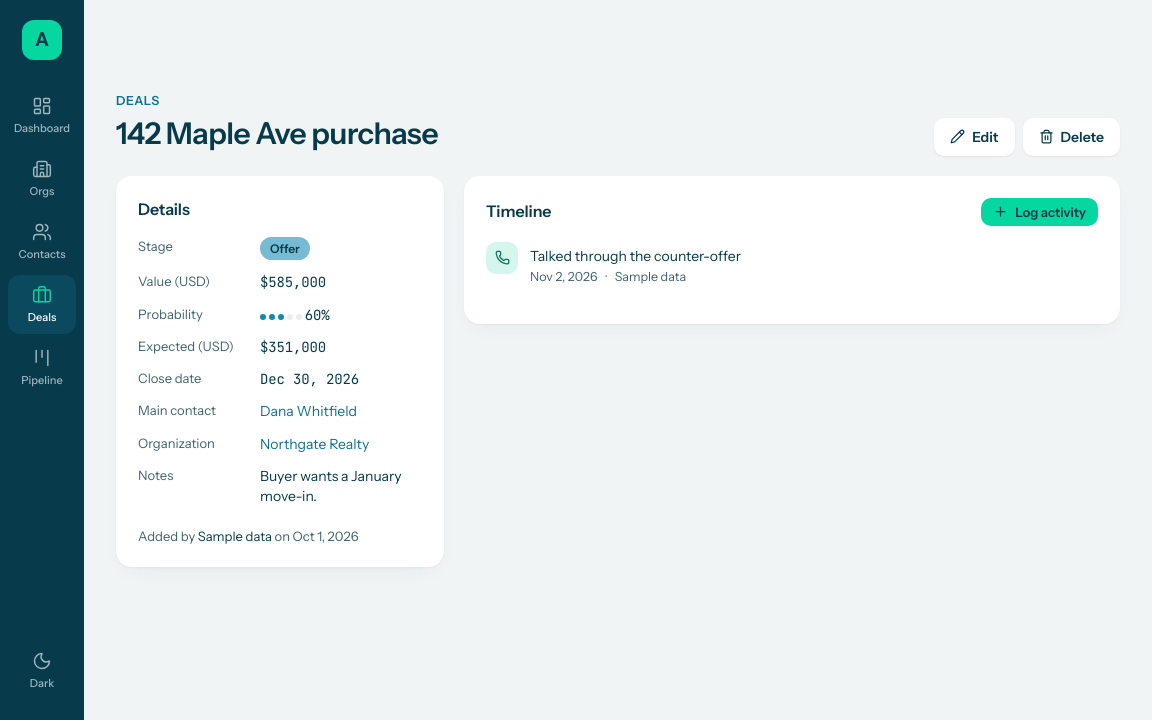
Test: a deal's page › edits the deal and shows the saved details
Click the button "Edit" at [974, 137], box [934,118,1014,156]
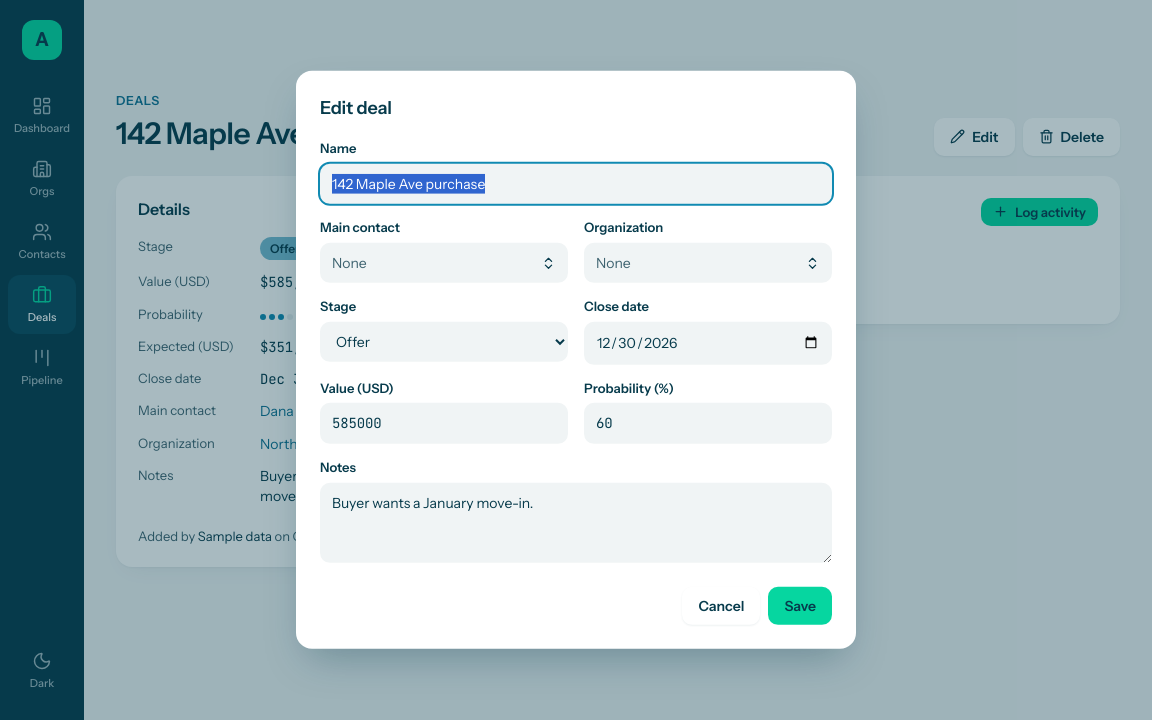
Type "142 Maple Ave purchase (backup offer)" into the field labelled "Name" at [576, 184], box [320,164,832,204]
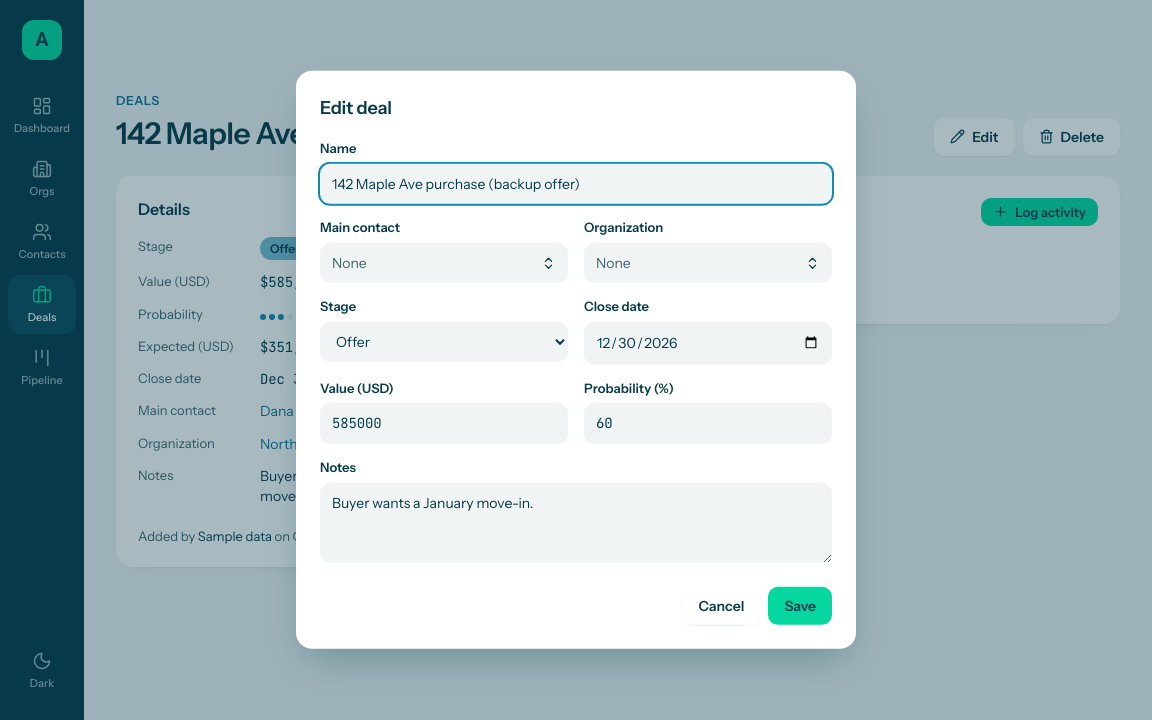
Click the button "Save" at [800, 606], box [768,587,832,625]
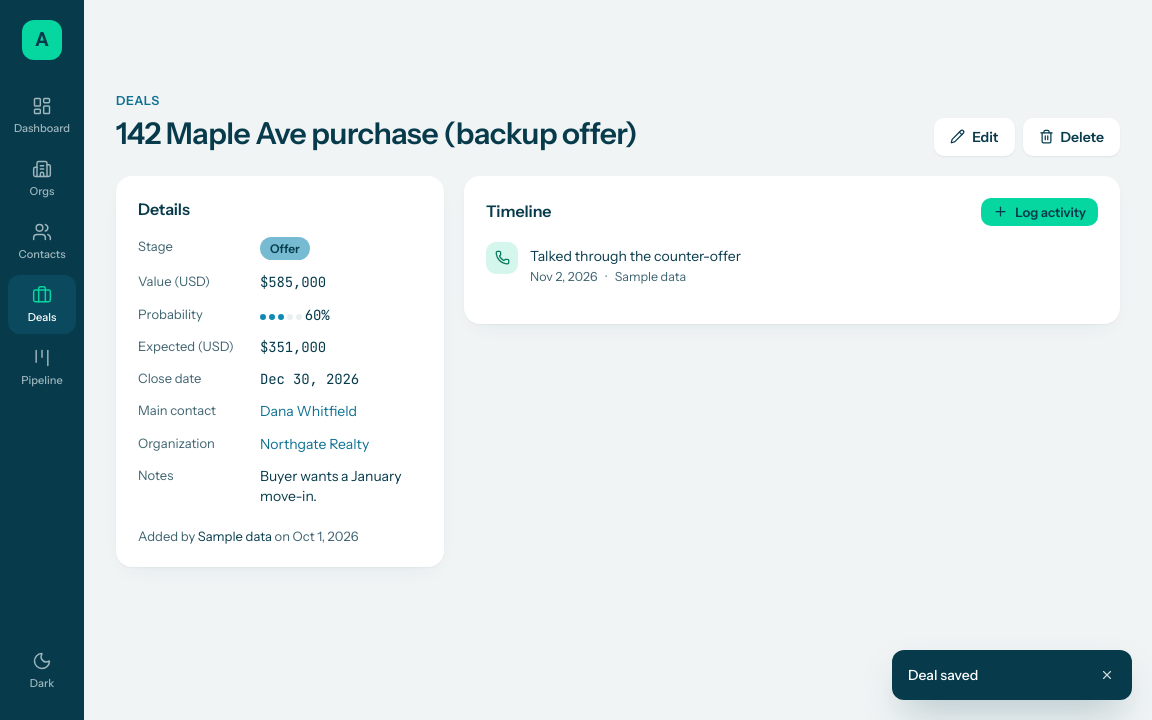
Now the heading "142 Maple Ave purchase (backup offer)" is shown, box [116,112,637,156]
Now the heading "Edit deal" is gone
Now the text "Deal saved" is shown, box [908,666,978,684]
